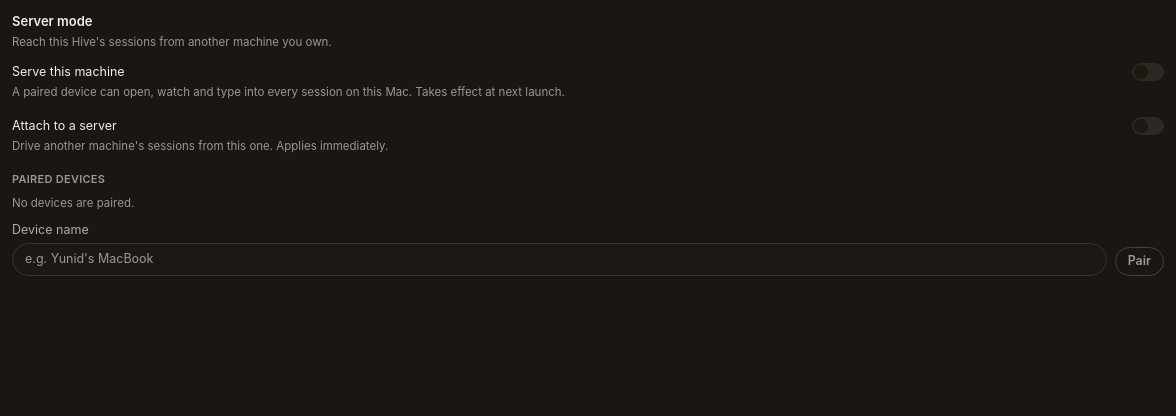
Test case: ServerModeGroup › pairing › clears a previously shown token once a new pairing attempt fails
Type "First device" into the field labelled "Device name" at (559, 260), box [12, 243, 1107, 276]
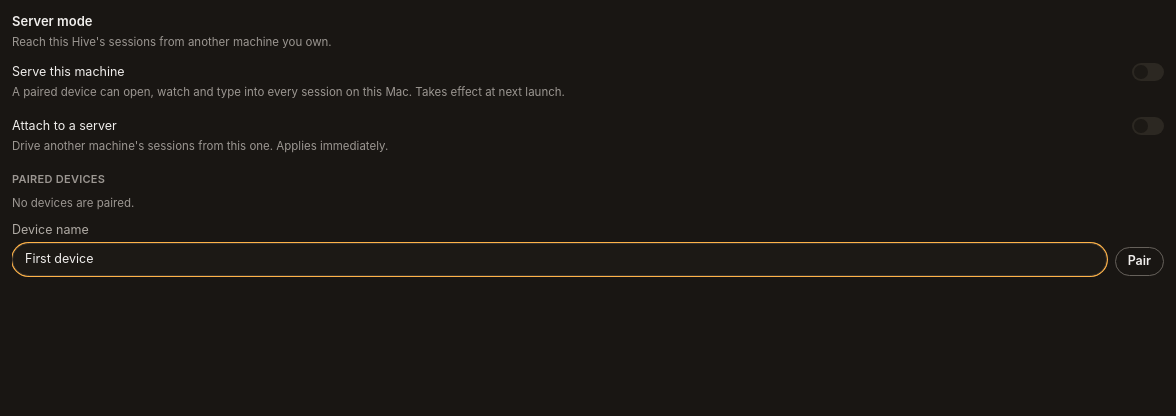
Click the button "Pair" at (1139, 262), box [1115, 247, 1164, 276]
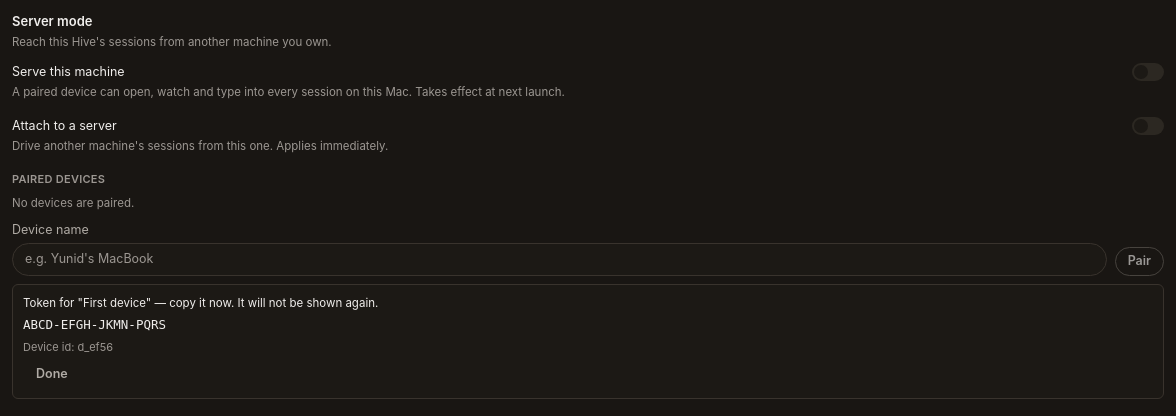
Check: the text "ABCD-EFGH-JKMN-PQRS" is shown, box [23, 317, 166, 332]
Type "First device" into the field labelled "Device name" at (559, 260), box [12, 243, 1107, 276]
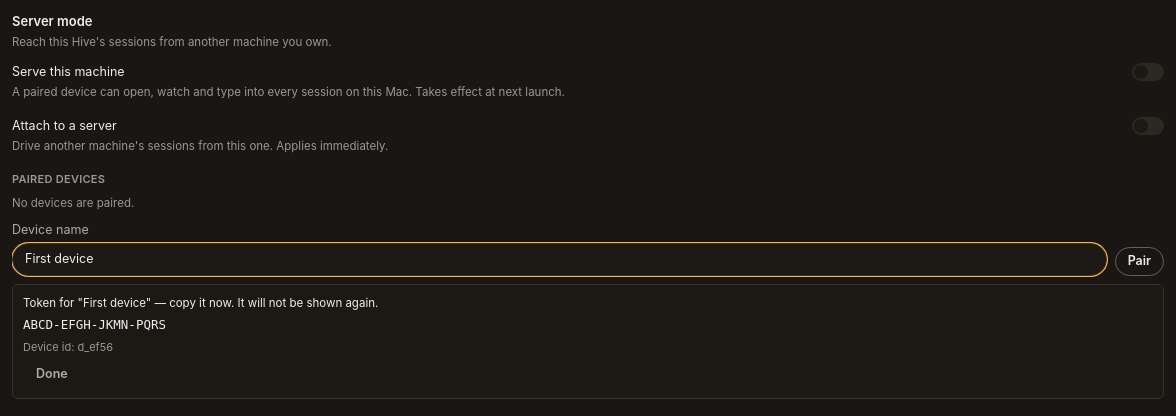
Click the button "Pair" at (1139, 262), box [1115, 247, 1164, 276]
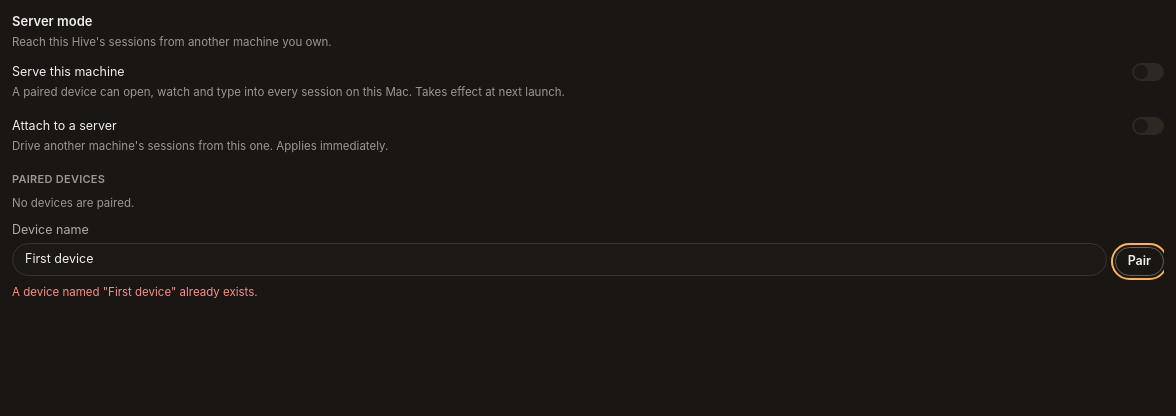
Check: the text "A device named \"First device\" already exists." is shown, box [12, 285, 258, 299]
Check: the text "ABCD-EFGH-JKMN-PQRS" is gone
